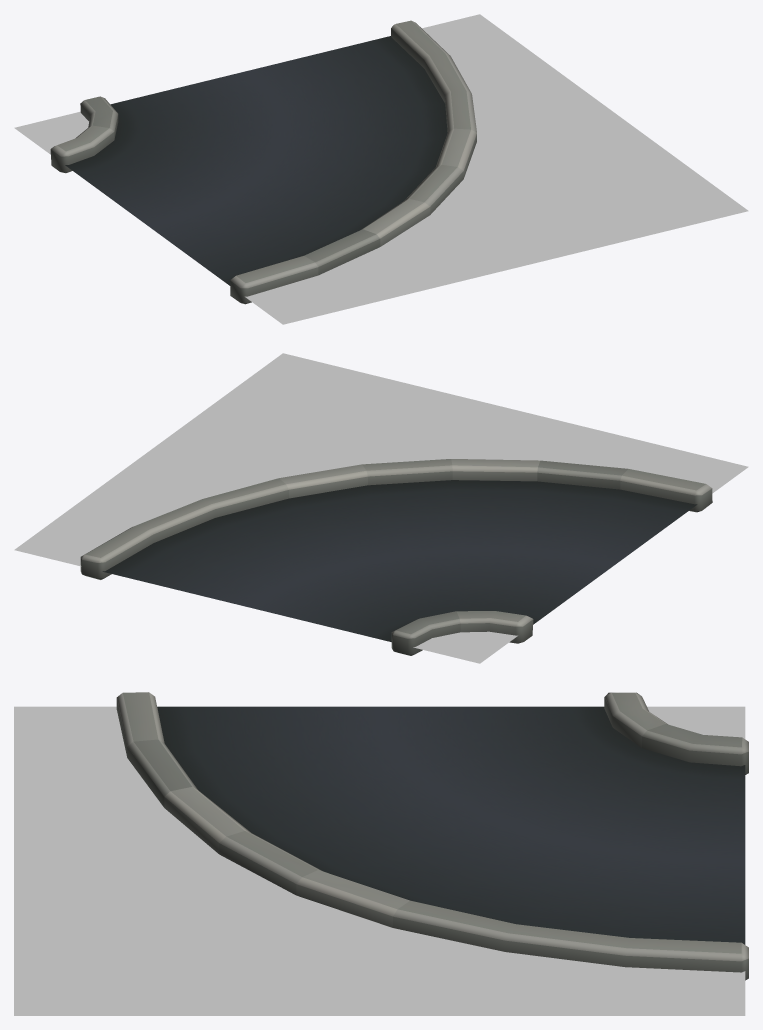
The model's file is lane_section_turn_tight.fbx.
3 renders of one model, top to bottom at view 1: azimuth 30°, elevation 25°; view 2: azimuth 150°, elevation 25°; view 3: azimuth 270°, elevation 25°, orthographic. The views are drawn at different scales.
Parts seen in each view (by area): view 1: lane_section_turn_tight, lane_section_turn_tight_sidewalk; view 2: lane_section_turn_tight, lane_section_turn_tight_sidewalk; view 3: lane_section_turn_tight, lane_section_turn_tight_sidewalk.
Part boxes in pixels (x1,y1,x2,y2): lane_section_turn_tight: (50, 20, 476, 304); lane_section_turn_tight_sidewalk: (14, 14, 748, 324); lane_section_turn_tight: (80, 459, 712, 655); lane_section_turn_tight_sidewalk: (14, 353, 748, 663); lane_section_turn_tight: (116, 692, 748, 980); lane_section_turn_tight_sidewalk: (14, 706, 745, 1015).
Bounding box in the file's own units: 1208 × 54.75 × 1206.
